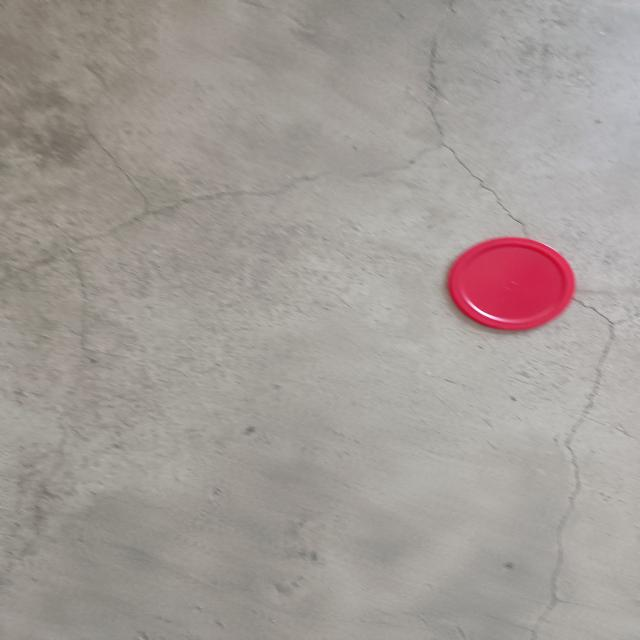chip: (444, 234, 578, 332)
